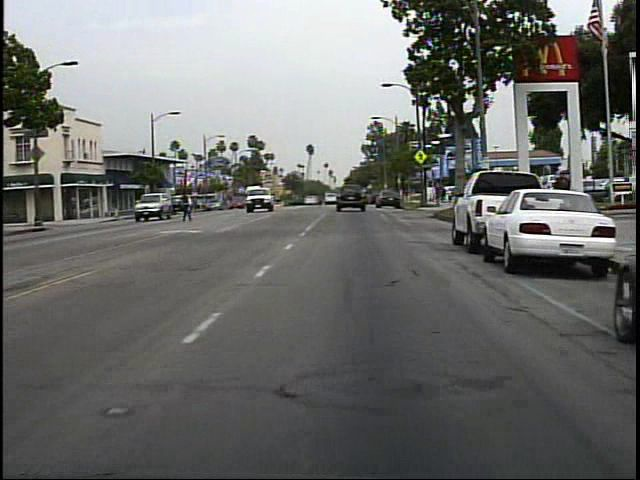person: (548, 167, 575, 226), (177, 183, 198, 225)
